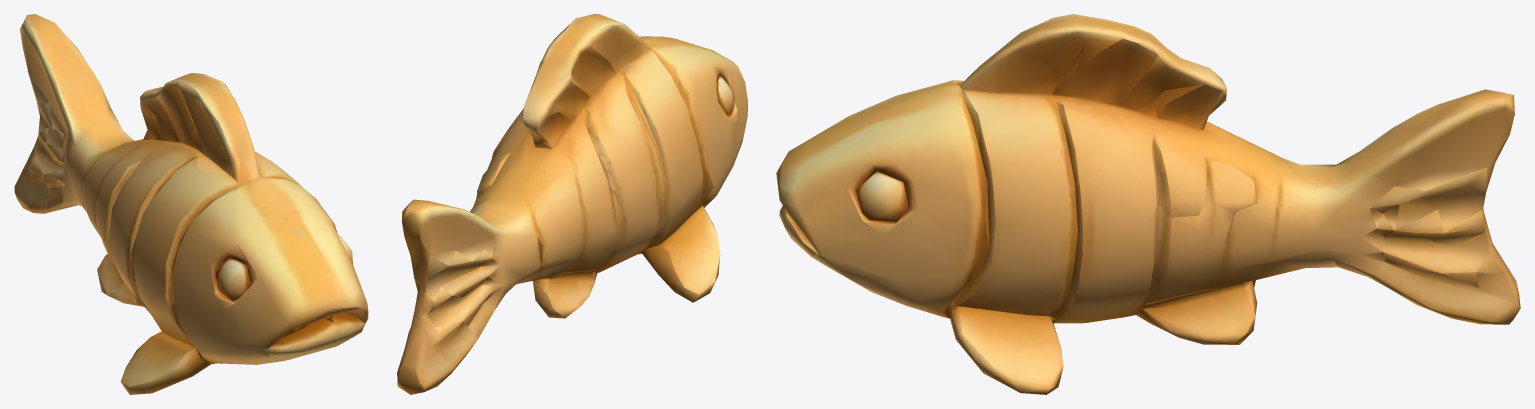
Rendered from catTreatFish.glb.
3 renders of one model, left to right at view 1: azimuth 30°, elevation 25°; view 2: azimuth 150°, elevation 25°; view 3: azimuth 270°, elevation 25°, orthographic. The views are drawn at different scales.
Parts seen in each view (by area): view 1: model; view 2: model; view 3: model.
Boxes of the visible parts, x1,y1,x2,y2 form: model: [14, 14, 368, 394]; model: [397, 14, 747, 394]; model: [776, 14, 1520, 394].
Bounding box in the file's own units: 0.7727 × 0.9249 × 1.9.
Materials: 1 (1 with a texture image).
